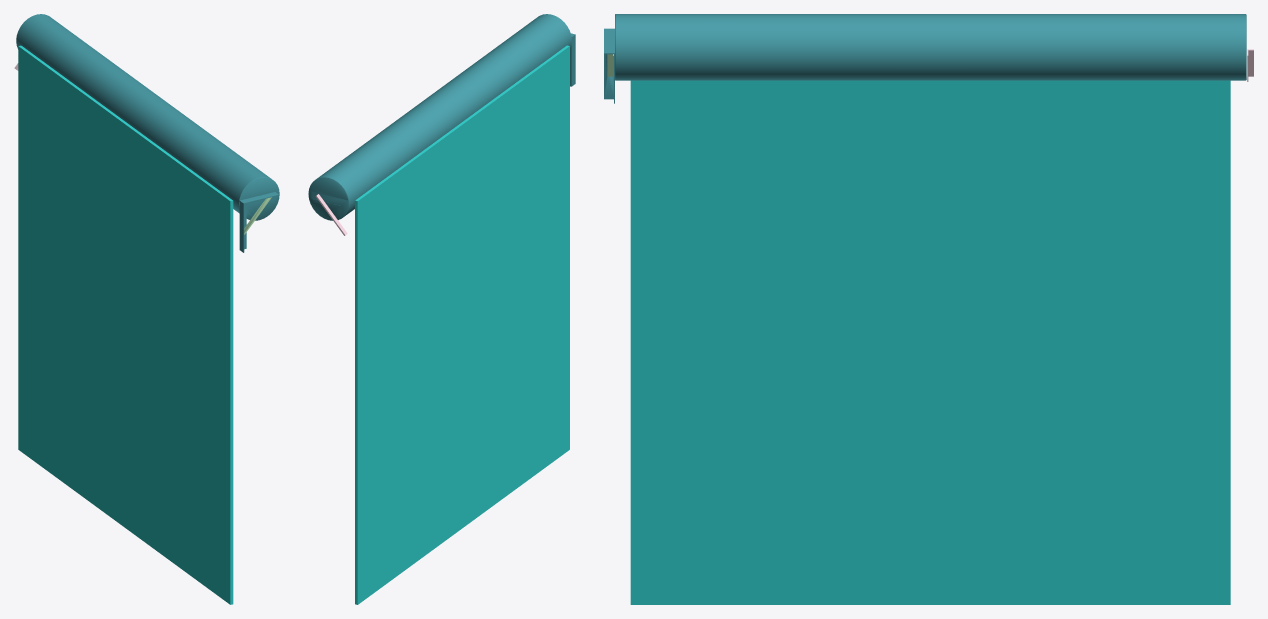
3 views of the same model, side by side, from view 1: azimuth 30°, elevation 25°; view 2: azimuth 150°, elevation 25°; view 3: azimuth 270°, elevation 25° (orthographic). The views are drawn at different scales.
Parts seen in each view (by area): view 1: Object_2.028, Object_2.020; view 2: Object_2.028, Object_2.020; view 3: Object_2.028, Object_2.020.
Boxes of the visible parts, x1=… form: Object_2.028: x1=18, y1=45, x2=233, y2=604; Object_2.020: x1=16, y1=14, x2=279, y2=252; Object_2.028: x1=355, y1=45, x2=569, y2=604; Object_2.020: x1=308, y1=14, x2=575, y2=220; Object_2.028: x1=630, y1=80, x2=1230, y2=604; Object_2.020: x1=604, y1=14, x2=1246, y2=103.
Bounding box in the file's own units: 0.108 × 1 × 0.9782.
